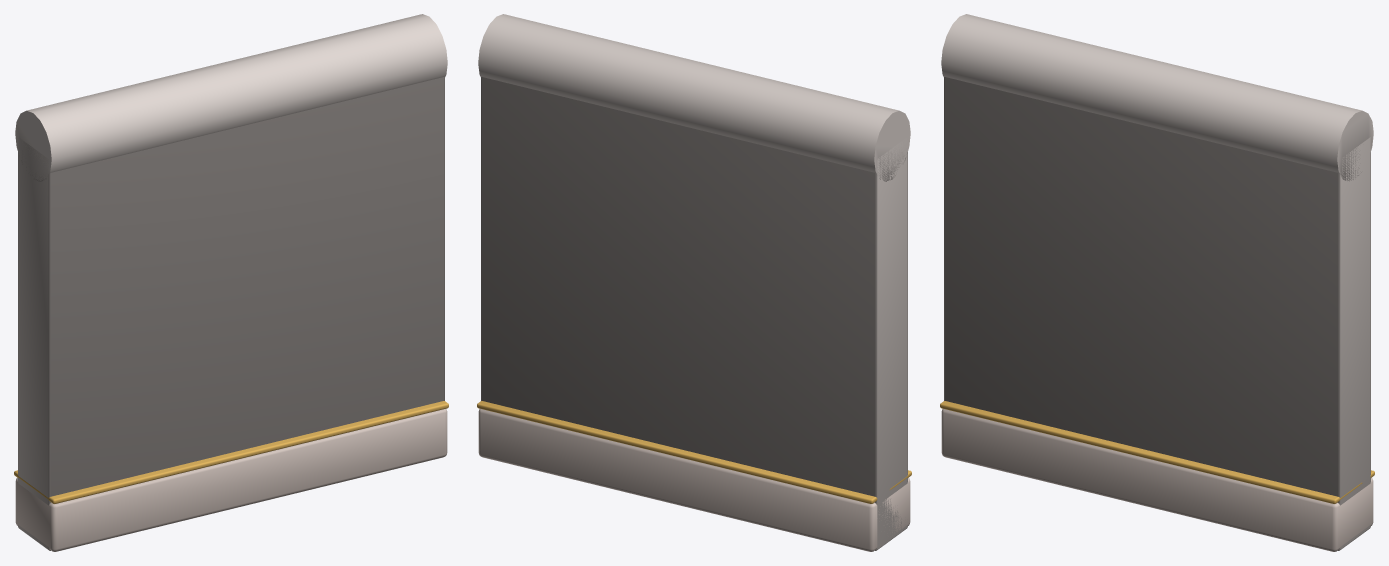
File: wall-low.glb
3 views of the same model, side by side, from view 1: azimuth 30°, elevation 25°; view 2: azimuth 150°, elevation 25°; view 3: azimuth 330°, elevation 25° (orthographic).
Visible parts, largest first — view 1: wall-low; view 2: wall-low; view 3: wall-low.
Part boxes in pixels (box(x1,y1,x2,y2)): wall-low: box(14, 14, 448, 551); wall-low: box(477, 14, 911, 551); wall-low: box(940, 14, 1374, 551).
Size of the model in its own units: 1 by 1.03 by 0.176.
